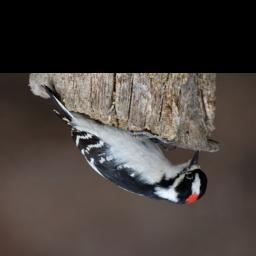Woodpecker: (38, 82, 210, 207)
